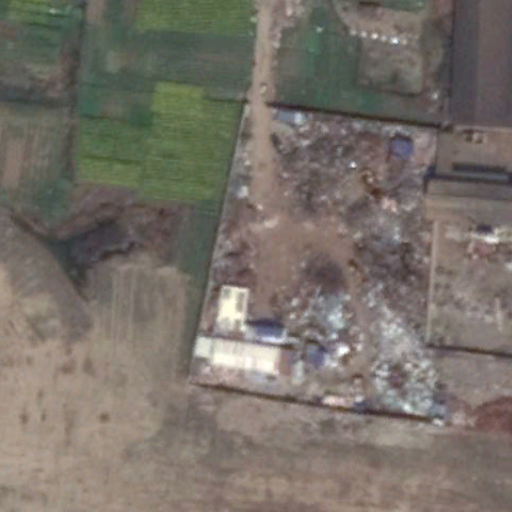msw: (213, 114, 445, 421)
